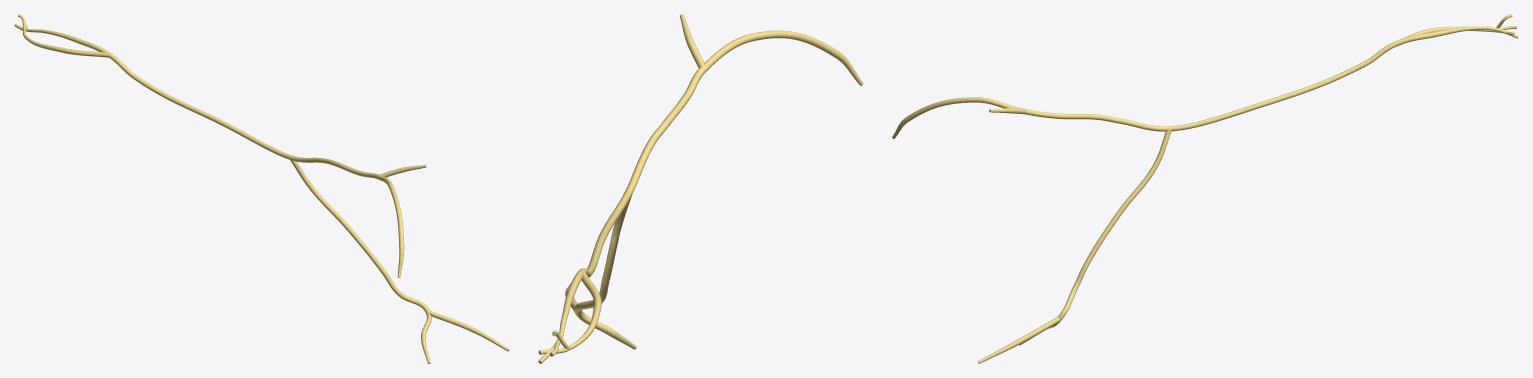
3 views of the same model, side by side, from view 1: azimuth 30°, elevation 25°; view 2: azimuth 150°, elevation 25°; view 3: azimuth 270°, elevation 25° (orthographic). The views are drawn at different scales.
Parts seen in each view (by area): view 1: ZA_b037884ee0d386b4; view 2: ZA_b037884ee0d386b4; view 3: ZA_b037884ee0d386b4.
Part boxes in pixels (x1,y1,x2,y2): ZA_b037884ee0d386b4: (14, 14, 509, 363); ZA_b037884ee0d386b4: (538, 14, 863, 363); ZA_b037884ee0d386b4: (892, 14, 1518, 363).
Size of the model in its own units: 0.0389 by 0.0341 by 0.0813.
